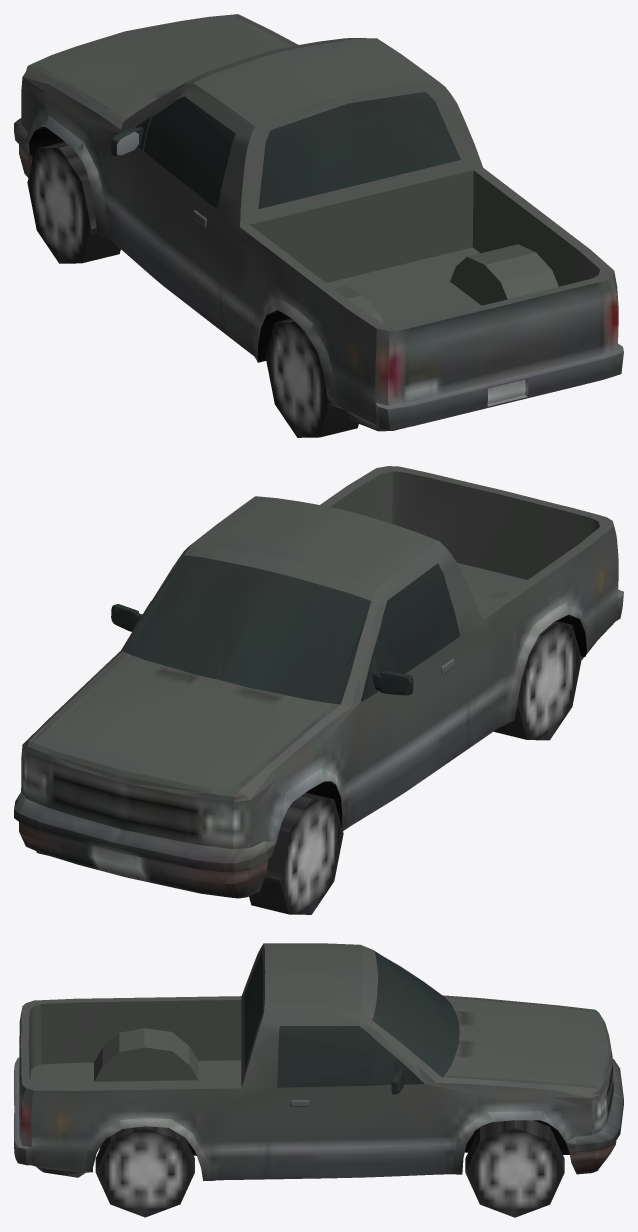
File: car2.glb
3 views of the same model, one above another, from view 1: azimuth 30°, elevation 25°; view 2: azimuth 150°, elevation 25°; view 3: azimuth 270°, elevation 25° (orthographic). The views are drawn at different scales.
Visible parts, largest first — view 1: car2_Material01_0; view 2: car2_Material01_0; view 3: car2_Material01_0.
Boxes of the visible parts, box(x1,y1,x2,y2) form: car2_Material01_0: box(14, 14, 623, 437); car2_Material01_0: box(14, 466, 623, 914); car2_Material01_0: box(14, 943, 623, 1217).
Bounding box in the file's own units: 1.9 × 1.55 × 4.31.
Materials: 1 (1 with a texture image).
